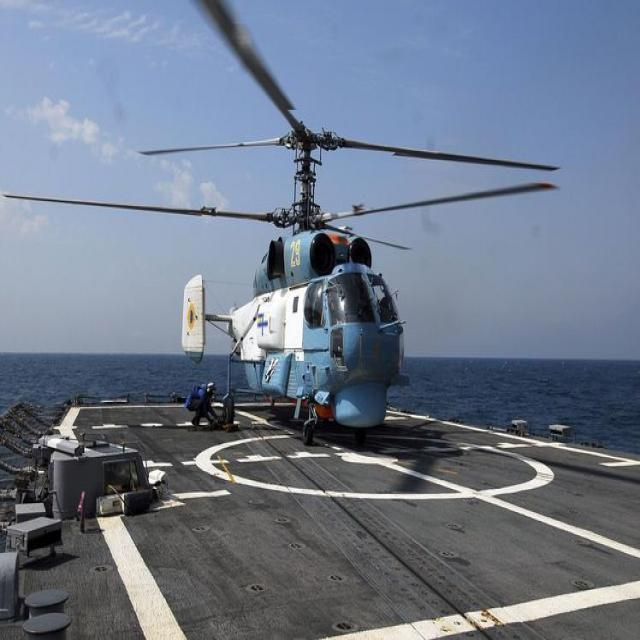MIL_HELO: (0, 4, 584, 446)
